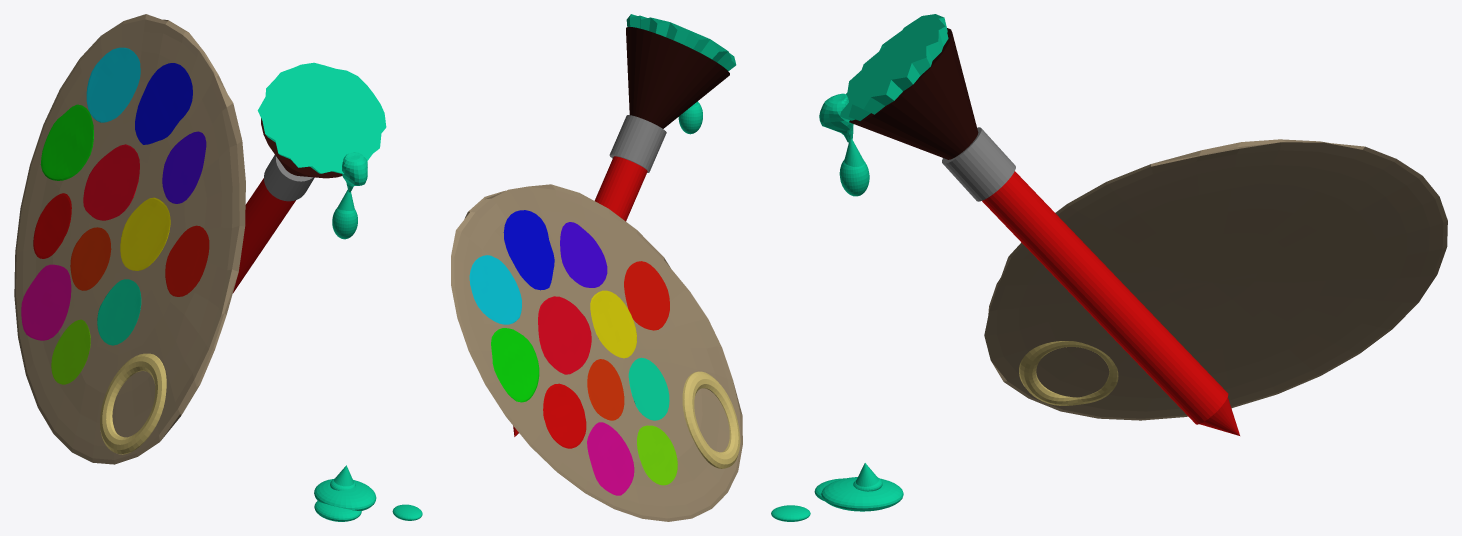
Rendered from red_curtain.obj.
3 renders of one model, left to right at view 1: azimuth 30°, elevation 25°; view 2: azimuth 150°, elevation 25°; view 3: azimuth 270°, elevation 25°, orthographic. The views are drawn at different scales.
Visible parts, largest first — view 1: Sphere, Cone.002_Cone.005, Sphere.002, Sphere.005, Sphere.001, Torus, Sphere.004, Sphere.011, Sphere.006, Cylinder, Sphere.012, Sphere.003 (+10 smaller); view 2: Sphere, Cone.001_Cone.004, Sphere.005, Sphere.002, Sphere.004, Sphere.001, Torus, Sphere.011, Sphere.012, Sphere.006, Sphere.003, Sphere.008 (+7 smaller); view 3: Sphere, Cylinder, Cone.001_Cone.004, Cone.002_Cone.005, Cylinder.001, Torus, Sphere.016_Sphere.018, Sphere.013_Sphere.016, Sphere.014_Sphere.015.
Part boxes in pixels (box(x1,y1,x2,y2)): Sphere: box(14, 14, 245, 464); Cone.002_Cone.005: box(257, 62, 386, 173); Sphere.002: box(135, 63, 192, 144); Sphere.005: box(83, 144, 139, 220); Sphere.001: box(86, 47, 140, 122); Torus: box(100, 353, 166, 454); Sphere.004: box(40, 104, 93, 180); Sphere.011: box(21, 264, 71, 340); Sphere.006: box(120, 197, 170, 270); Cylinder: box(233, 178, 295, 292); Sphere.012: box(165, 225, 209, 296); Sphere.003: box(162, 131, 206, 203); Sphere: box(451, 184, 742, 521); Cone.001_Cone.004: box(626, 27, 729, 128); Sphere.005: box(538, 296, 591, 374); Sphere.002: box(503, 210, 554, 290); Sphere.004: box(491, 328, 539, 402); Sphere.001: box(469, 255, 521, 324); Torus: box(682, 371, 740, 468); Sphere.011: box(587, 422, 634, 495); Sphere.012: box(624, 261, 669, 330); Sphere.006: box(590, 290, 636, 358); Sphere.003: box(560, 222, 607, 287); Sphere.008: box(543, 383, 586, 448); Sphere: box(984, 139, 1447, 420); Cylinder: box(982, 171, 1228, 424); Cone.001_Cone.004: box(849, 28, 978, 159); Cone.002_Cone.005: box(840, 14, 948, 120); Cylinder.001: box(942, 127, 1015, 201); Torus: box(1019, 341, 1118, 405); Sphere.016_Sphere.018: box(821, 477, 903, 511); Sphere.013_Sphere.016: box(819, 93, 853, 142); Sphere.014_Sphere.015: box(839, 159, 869, 196).
Size of the model in its own units: 2.3 by 4.66 by 5.98.
